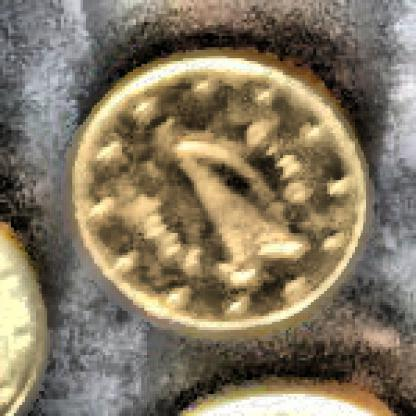coin: (68, 49, 369, 333)
